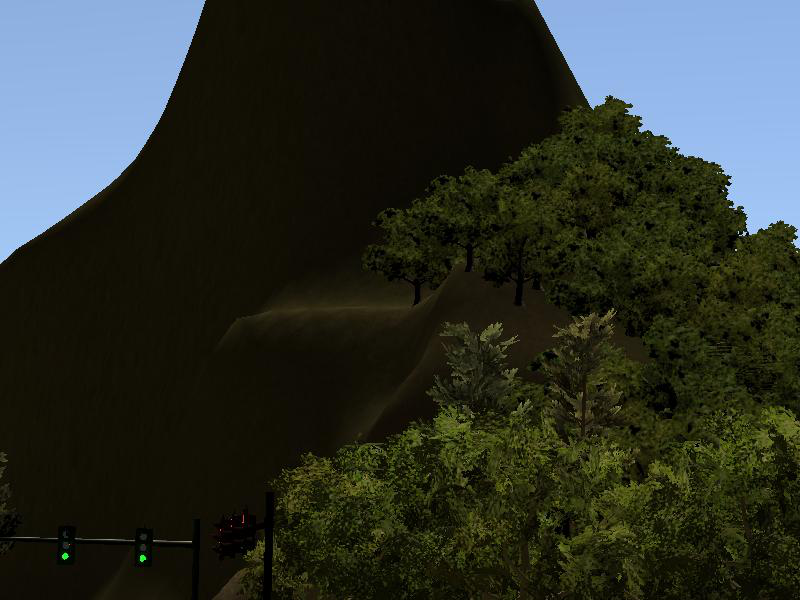green: (137, 527, 152, 568), (59, 526, 73, 566)
